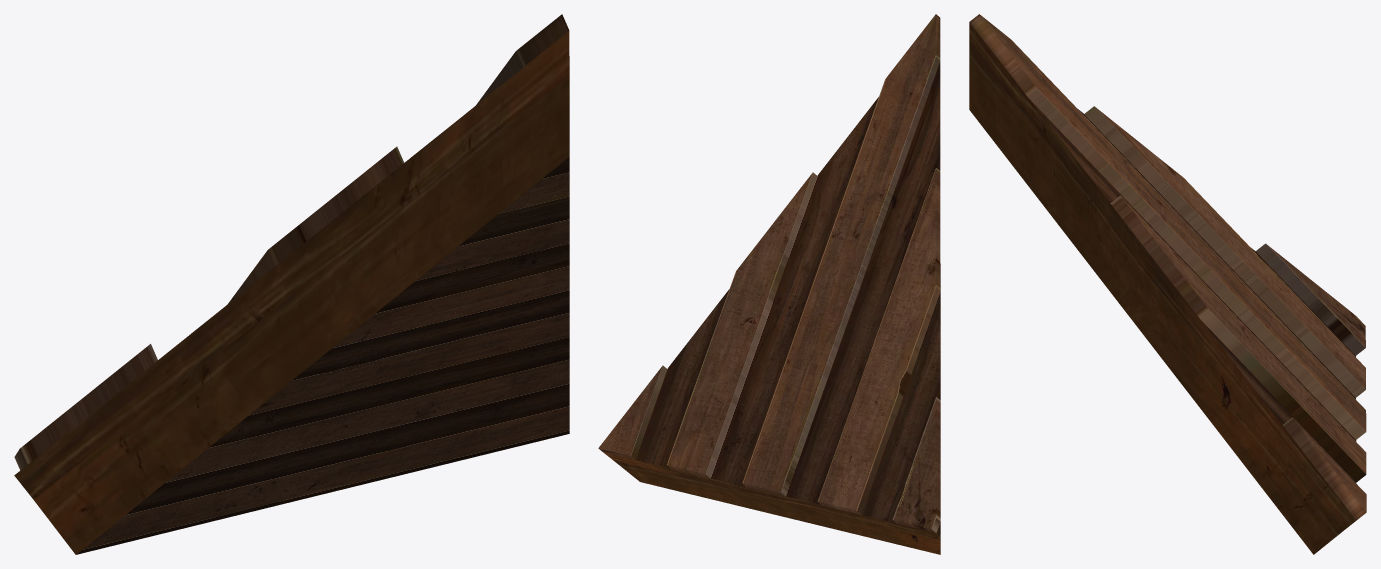
The picture shows the model from 3 angles, left to right: view 1: azimuth 30°, elevation 25°; view 2: azimuth 150°, elevation 25°; view 3: azimuth 270°, elevation 25°; orthographic projection. The views are drawn at different scales.
Visible parts, largest first — view 1: SM_BB_T2_Roof_Triangle_Med_Inverted_LOD0; view 2: SM_BB_T2_Roof_Triangle_Med_Inverted_LOD0; view 3: SM_BB_T2_Roof_Triangle_Med_Inverted_LOD0.
Part boxes in pixels (x1,y1,x2,y2): SM_BB_T2_Roof_Triangle_Med_Inverted_LOD0: [14, 14, 569, 554]; SM_BB_T2_Roof_Triangle_Med_Inverted_LOD0: [598, 14, 940, 554]; SM_BB_T2_Roof_Triangle_Med_Inverted_LOD0: [969, 14, 1366, 554].
Size of the model in its own units: 1.69 by 1.91 by 1.5.
2 materials, 2 textured.
